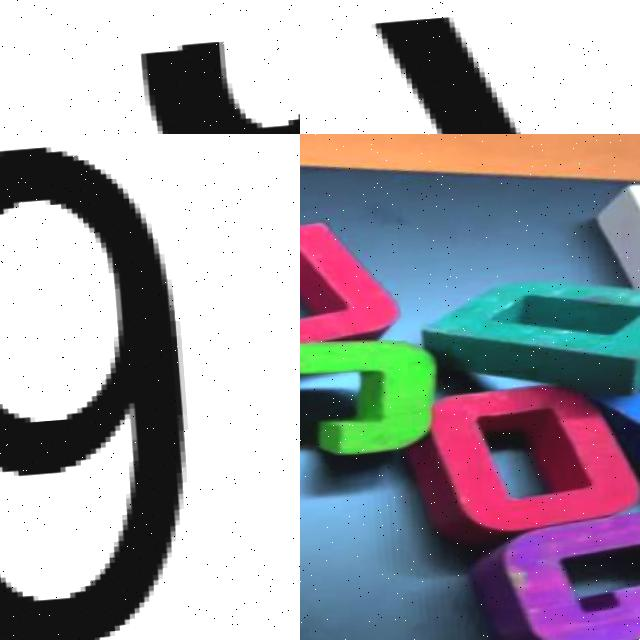5: (101, 0, 300, 134)
9: (0, 134, 204, 640)
C: (300, 332, 457, 476)
D: (418, 267, 640, 399)
G: (476, 493, 640, 640)
H: (597, 171, 640, 302)
O: (393, 373, 640, 565)
U: (300, 214, 396, 354)
Y: (363, 0, 640, 134)
